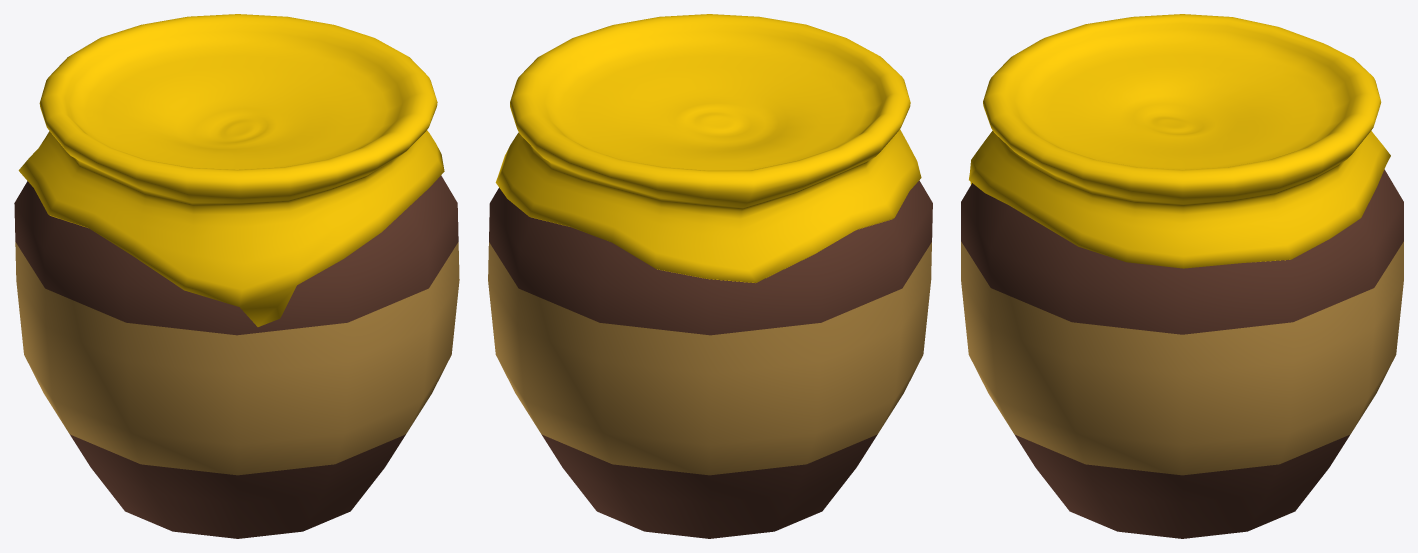
File: HoneyJar.fbx
3 views of the same model, side by side, from view 1: azimuth 30°, elevation 25°; view 2: azimuth 150°, elevation 25°; view 3: azimuth 270°, elevation 25° (orthographic).
Parts seen in each view (by area): view 1: Circle.002; view 2: Circle.002; view 3: Circle.002.
Boxes of the visible parts, bbox=[...] form: Circle.002: bbox=[14, 14, 459, 538]; Circle.002: bbox=[488, 14, 932, 538]; Circle.002: bbox=[961, 14, 1403, 538].
Bounding box in the file's own units: 233 × 226 × 232.
